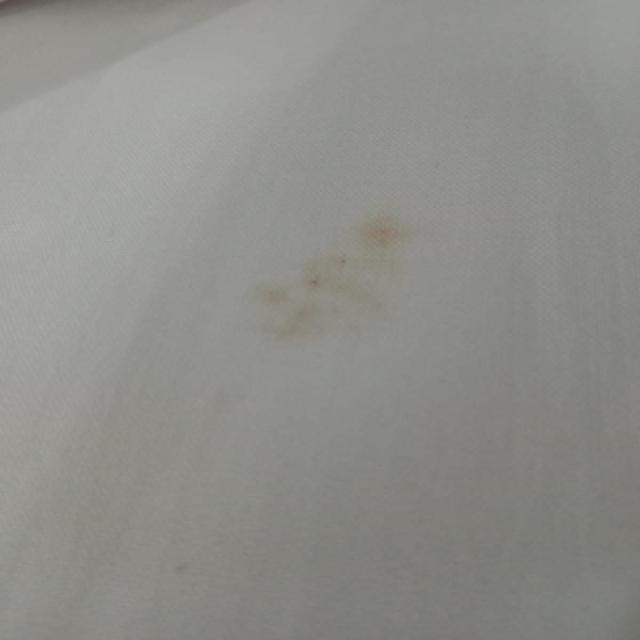stain: (230, 198, 433, 362)
